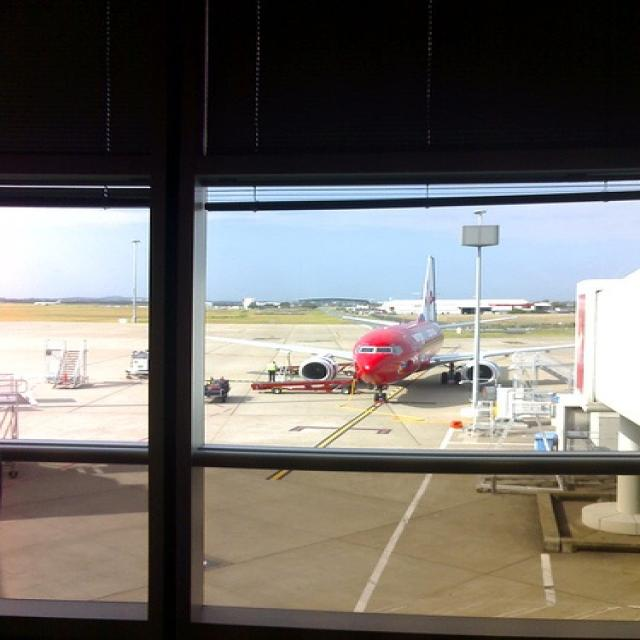aeroplane: (204, 253, 578, 406)
